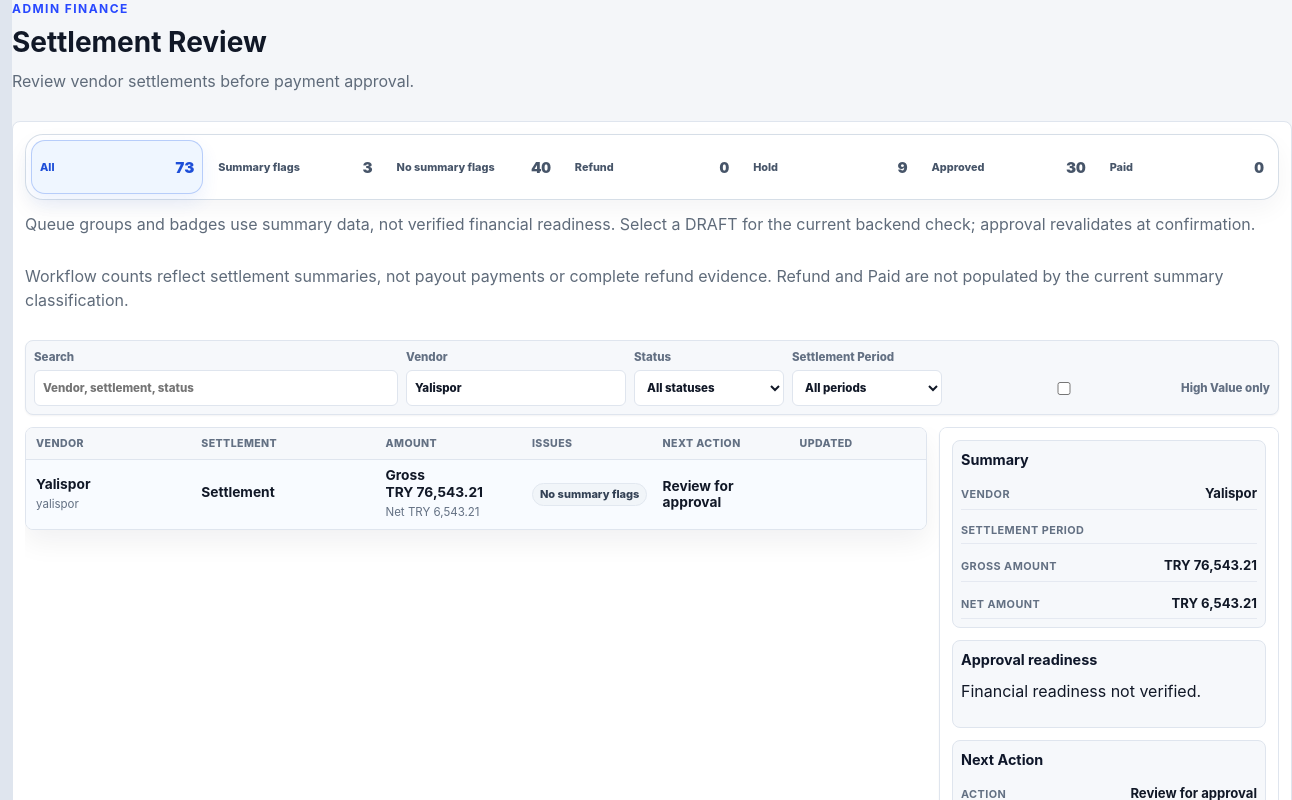
Test case: Settlement Review queue cleanup › opens browsing detail independently while the legacy authority request is pending
The width and height of the screenshot is (1292, 800).
Expected: the text "Gross TRY 76,543.21" is shown, left=386, top=467, right=483, bottom=500
What coordinates should you click on to do the following:
click the button that starts with "Yalispor"
I would click on:
 (476, 494)
Its box is left=26, top=460, right=926, bottom=529.
(page scrolled)
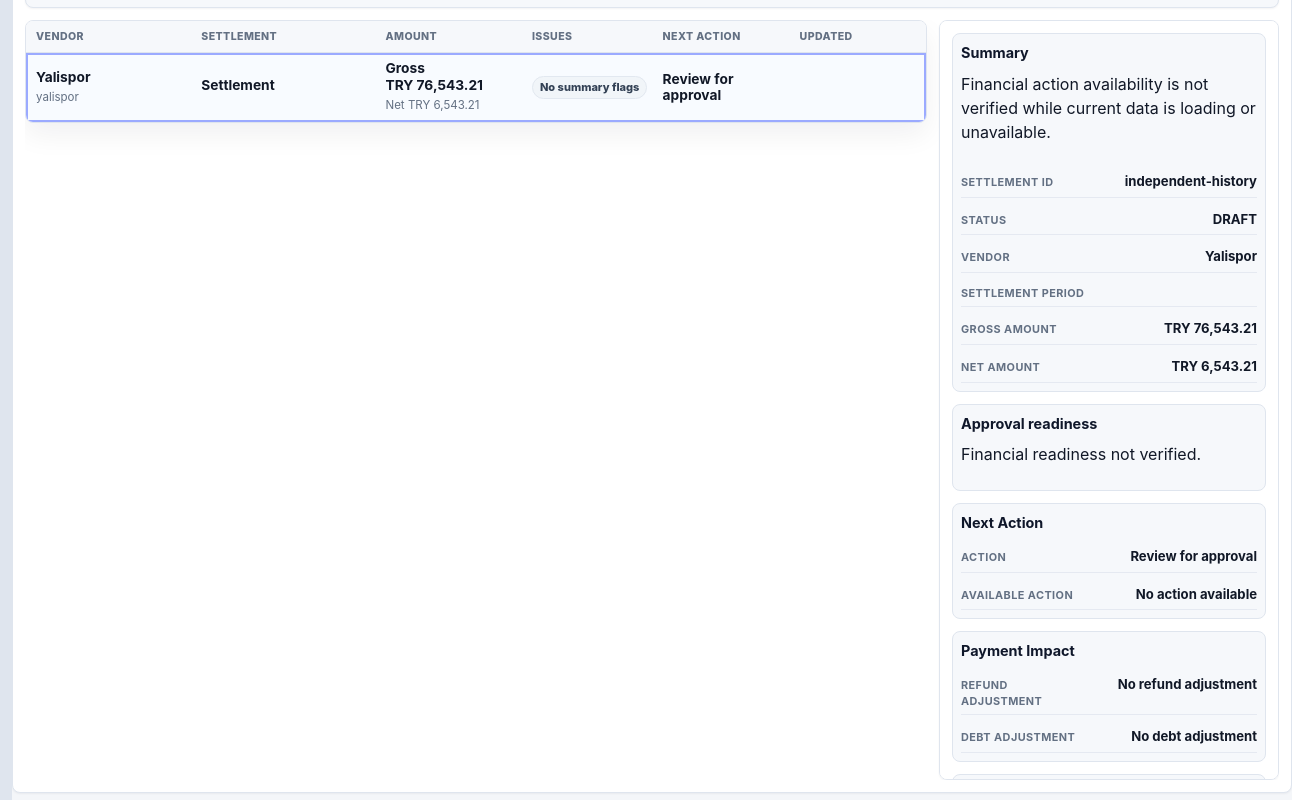
Expected: the element named "Settlement review detail panel" shows "independent-history", left=1125, top=173, right=1257, bottom=189
